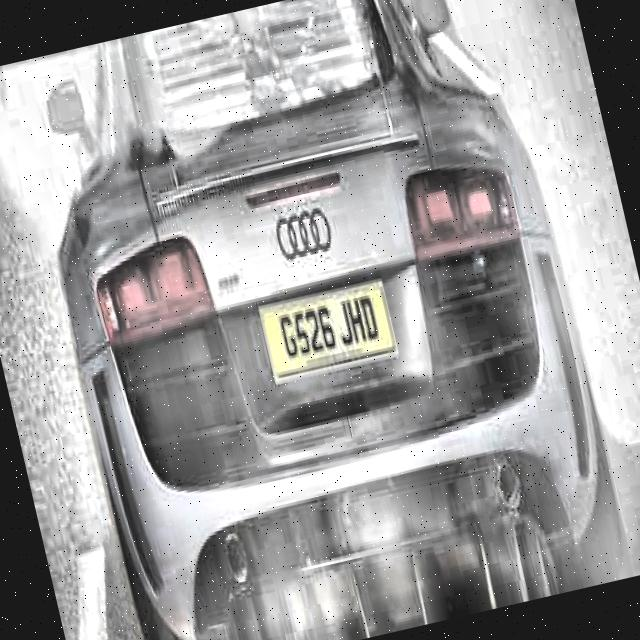license_plate: (264, 280, 391, 369)
